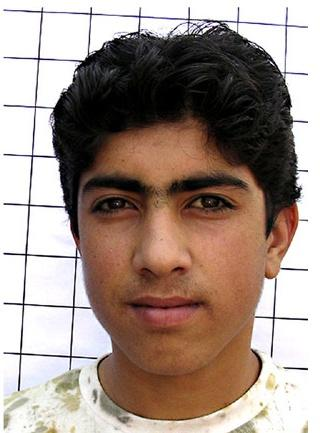No Mask: (44, 63, 297, 390)
